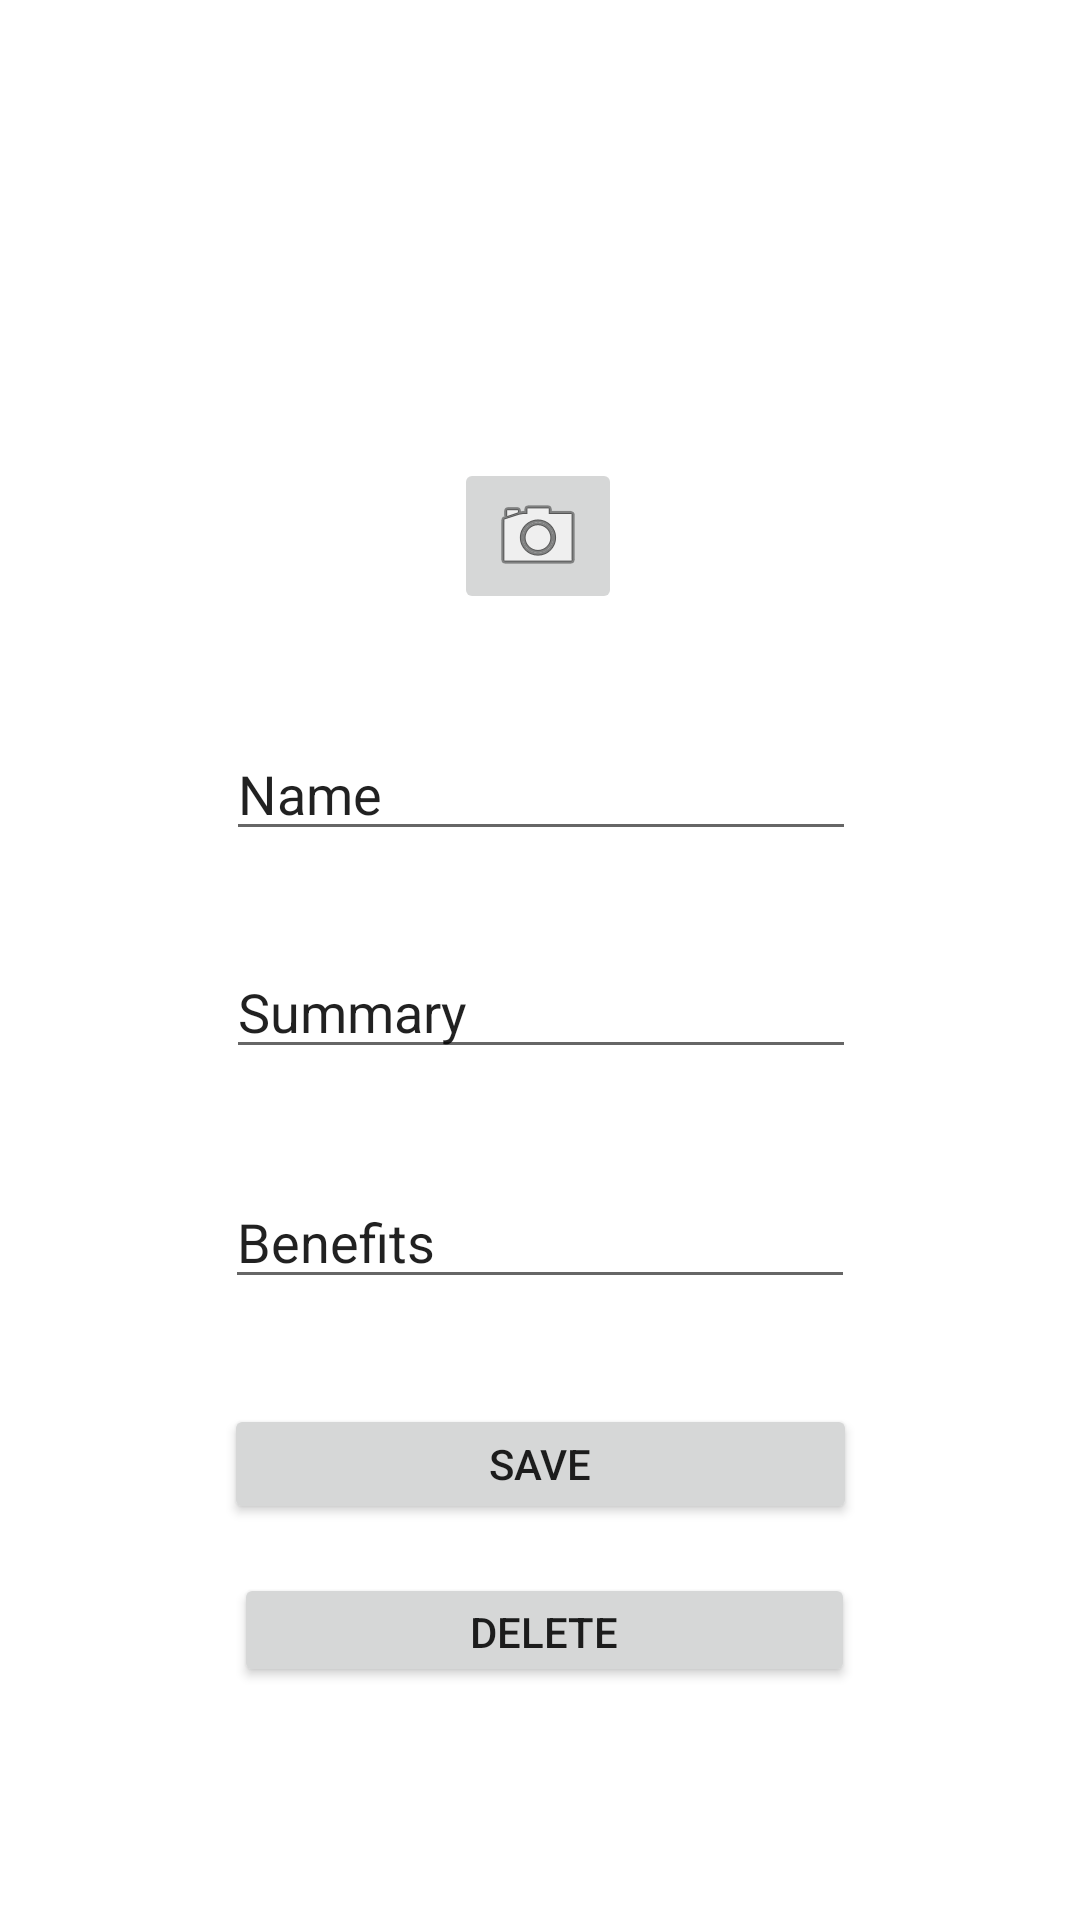

Icons on this 1080px x 1920px Android screen, each with the point to tap as point (x, y):
camera: point (538, 536)
